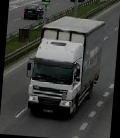truck: (23, 8, 103, 122)
